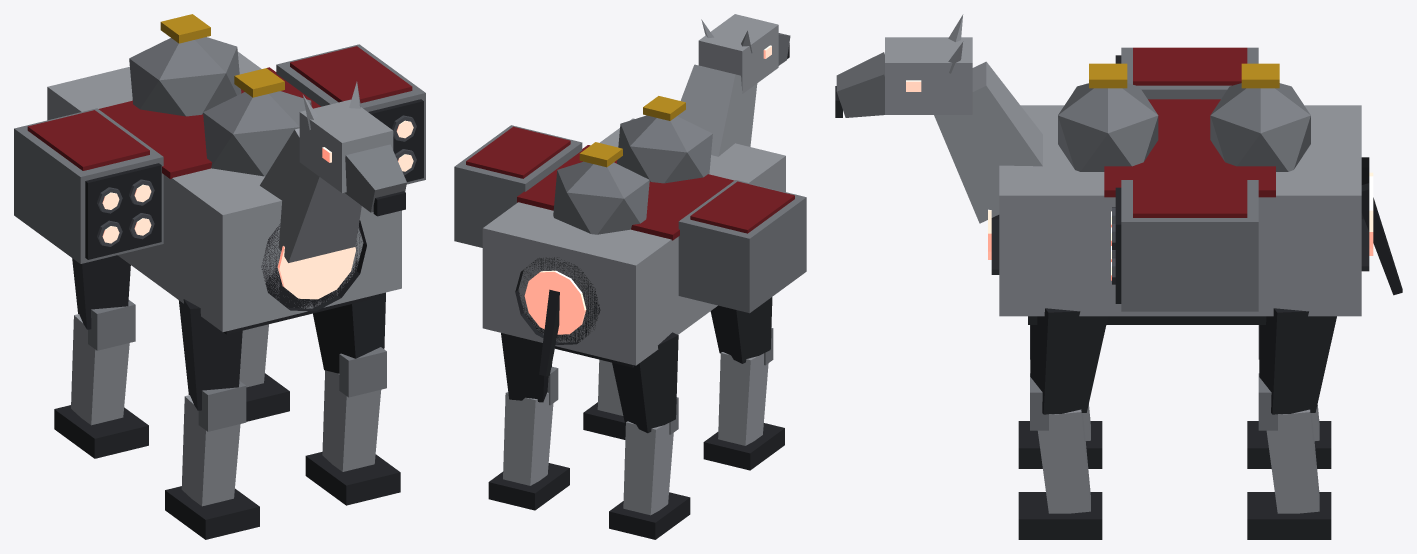
Rendered from shell.glb.
3 renders of one model, left to right at view 1: azimuth 30°, elevation 25°; view 2: azimuth 150°, elevation 25°; view 3: azimuth 270°, elevation 25°, orthographic. The views are drawn at different scales.
Visible parts, largest first — view 1: DShellHull, DShellGlow; view 2: DShellHull, DShellGlow; view 3: DShellHull, DShellGlow.
Part boxes in pixels (x1,y1,x2,y2): DShellHull: (14, 14, 425, 539); DShellGlow: (102, 120, 413, 299); DShellHull: (454, 14, 806, 539); DShellGlow: (524, 45, 771, 334); DShellHull: (835, 14, 1402, 539); DShellGlow: (906, 80, 1373, 280).
Size of the model in its own units: 2.16 by 2.68 by 2.97.
